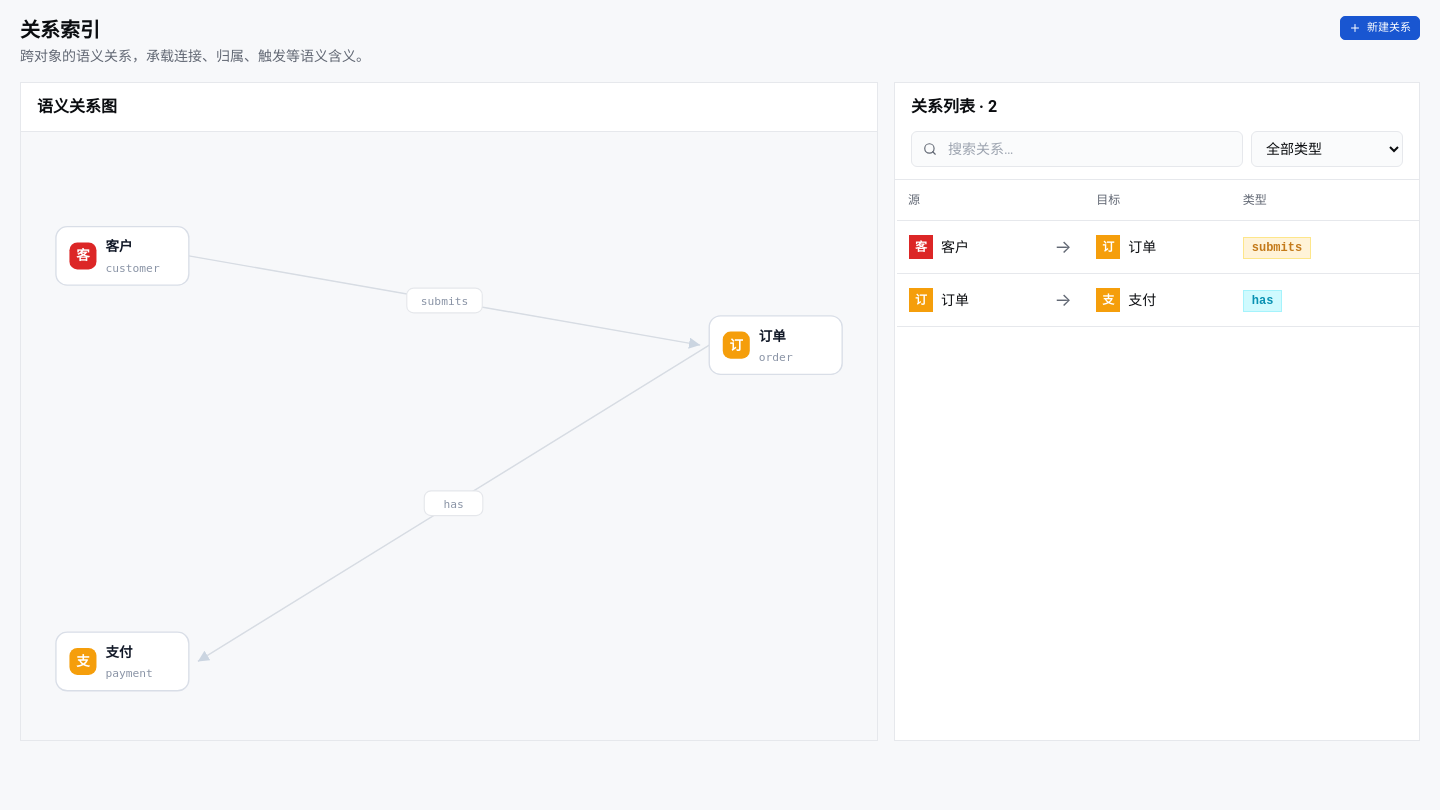
Test: OntologyRelations page › 点击 relation 行 → 端点节点 / 边均高亮 + 表格只剩该行
What coordinates should you click on to do the following:
click the row with test id "ontology-relations-row-customer_submits_order"
I would click on:
 (1158, 247)
Its box is [896,220,1419,274].
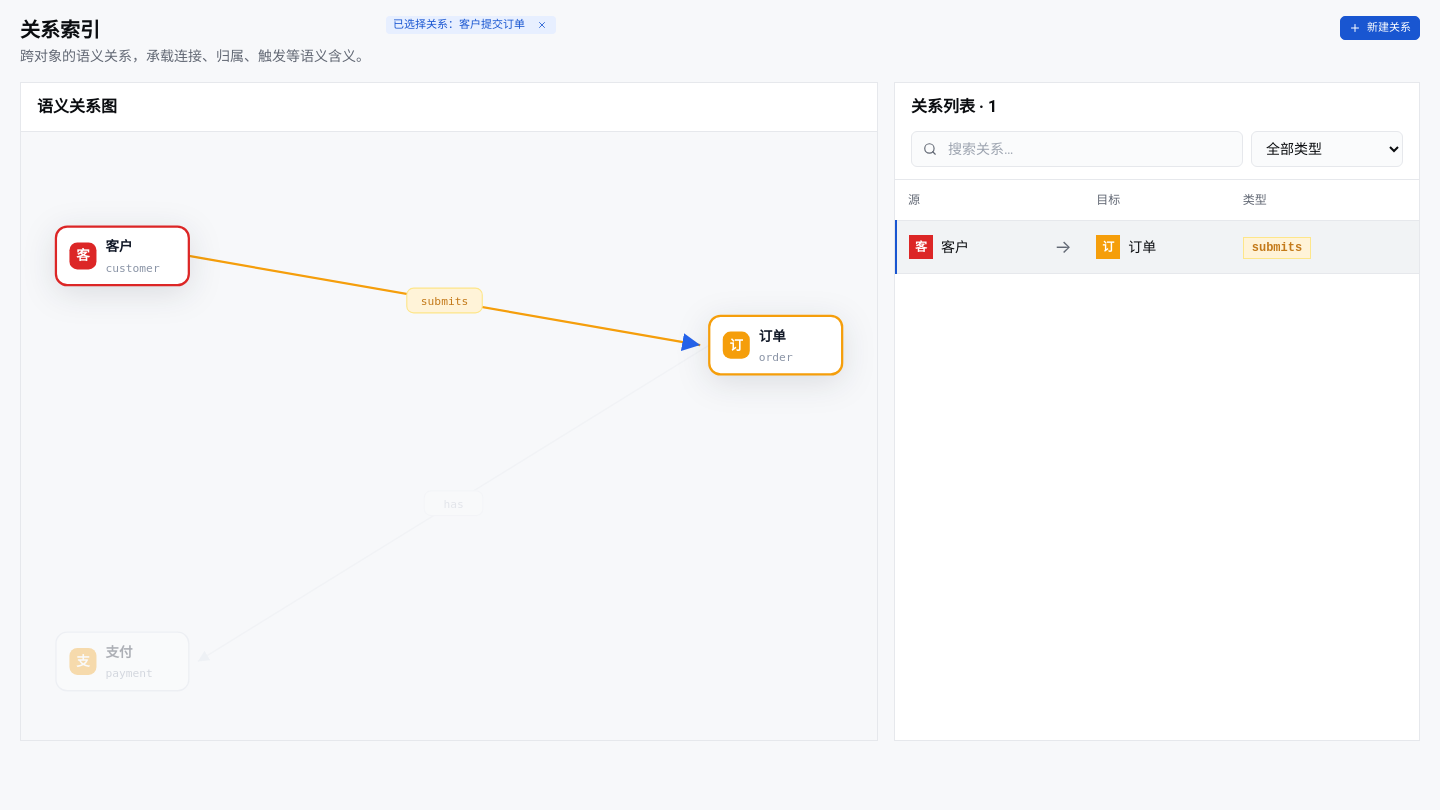
Now the text "已选择关系：客户提交订单" is shown, box [386,16,556,34]
